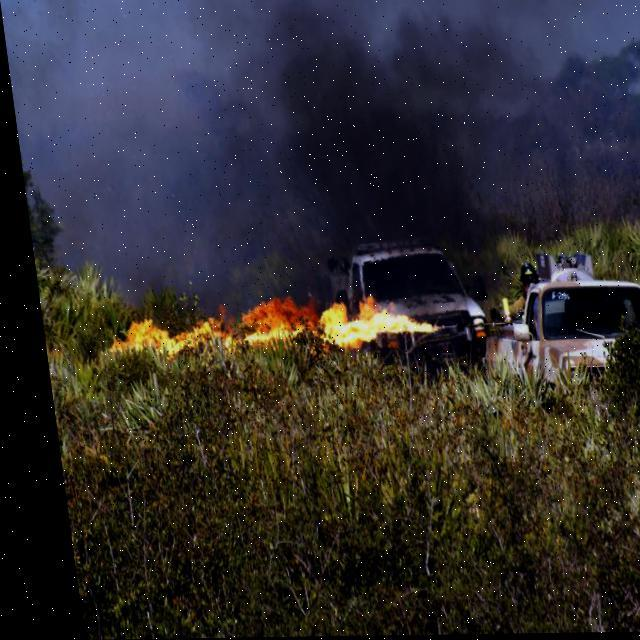Fire: (95, 298, 442, 368)
